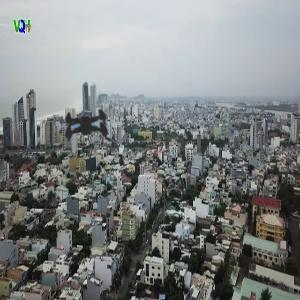drone: (30, 71, 140, 181)
